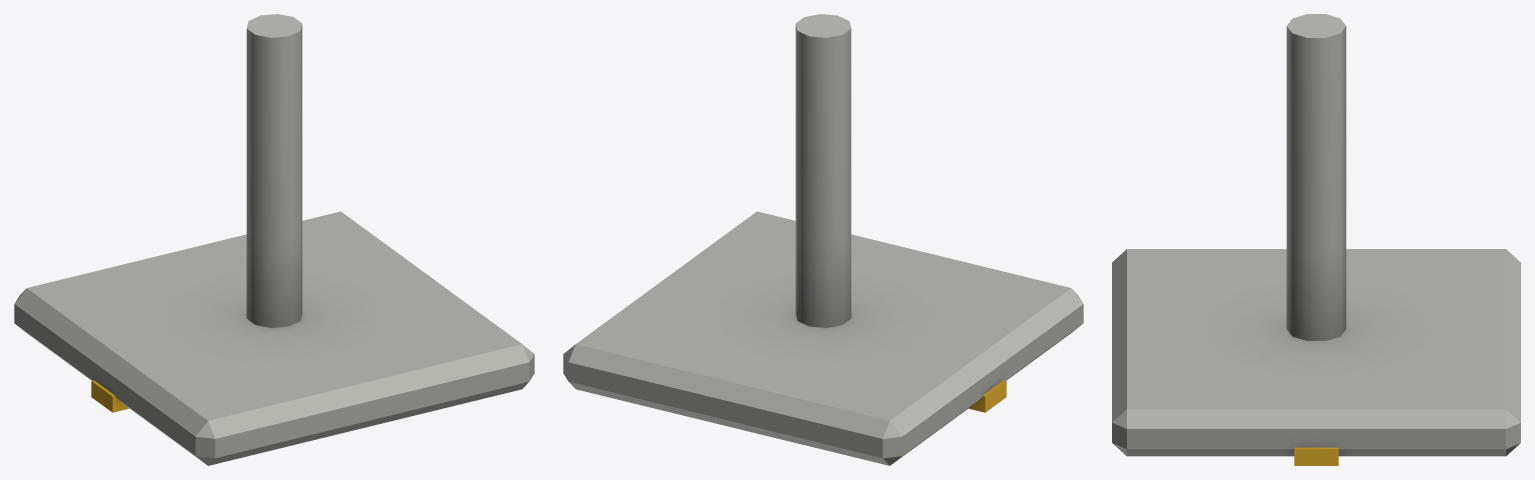
File: kit_factory_press.glb
3 renders of one model, left to right at view 1: azimuth 30°, elevation 25°; view 2: azimuth 150°, elevation 25°; view 3: azimuth 270°, elevation 25°, orthographic. The views are drawn at different scales.
Visible parts, largest first — view 1: kit_factory_press; view 2: kit_factory_press; view 3: kit_factory_press.
Boxes of the visible parts, bbox=[...] form: kit_factory_press: bbox=[14, 14, 534, 465]; kit_factory_press: bbox=[563, 14, 1083, 465]; kit_factory_press: bbox=[1112, 14, 1520, 465].
Size of the model in its own units: 1.12 by 1.04 by 1.1.
Materials: 1 (1 with a texture image).
